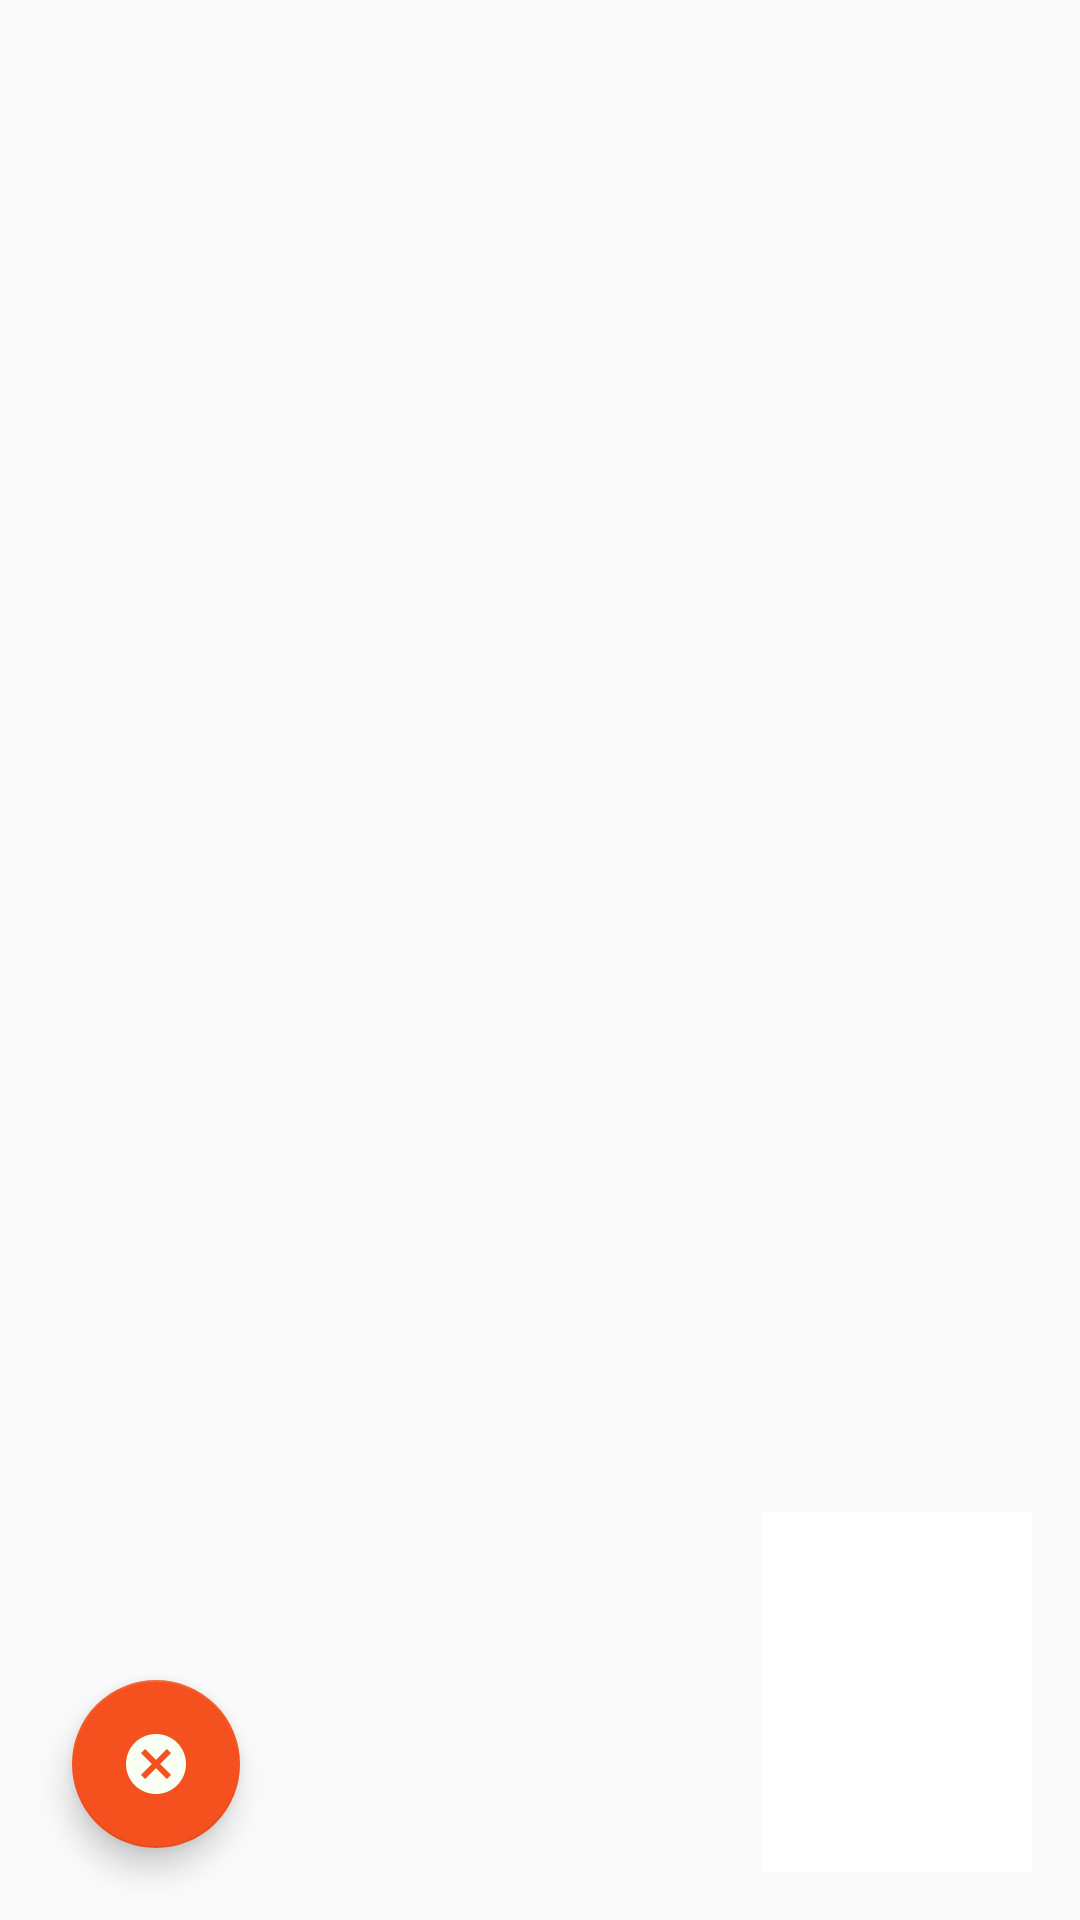

Icon click points for this 1080px x 1920px phone screenshot, format (x=x, y=y):
cancel: (x=156, y=1764)
